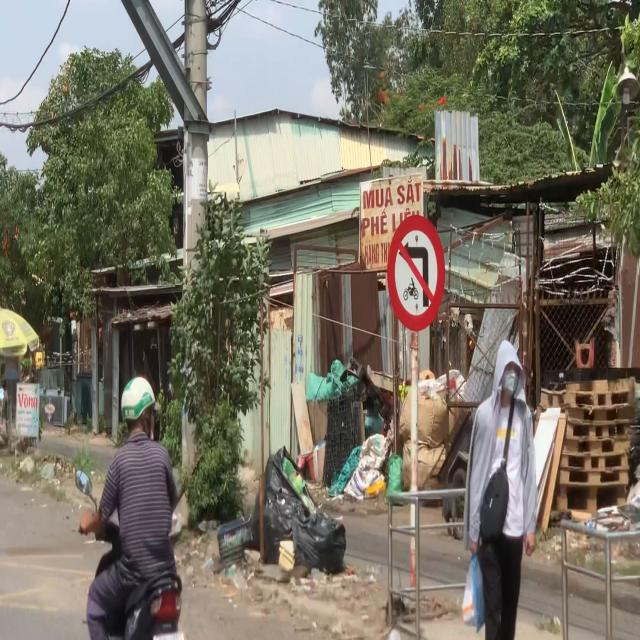Cam re trai: (387, 212, 444, 332)
